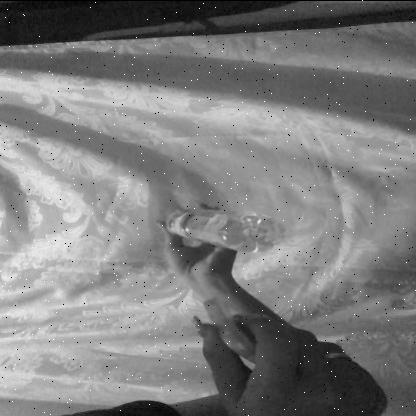Plastic Bottle: (112, 162, 330, 270)
